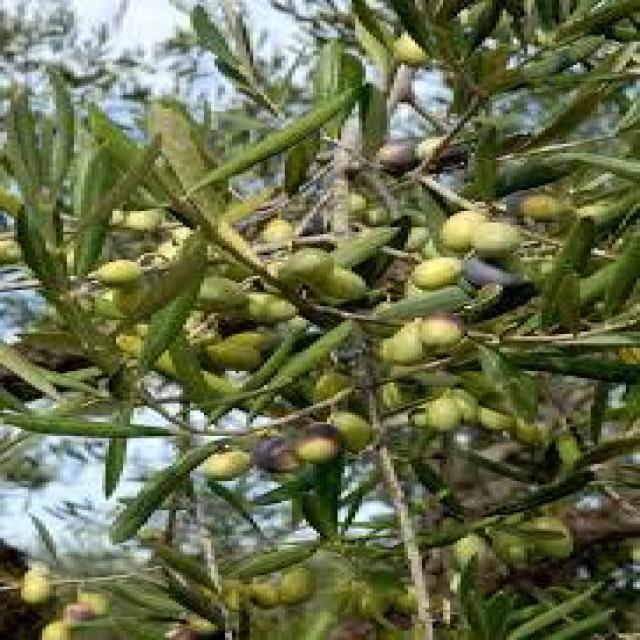Healthy: (327, 410, 369, 450), (440, 211, 482, 250), (408, 257, 457, 288), (197, 450, 250, 478), (471, 223, 517, 255), (418, 315, 461, 346), (278, 566, 309, 603), (88, 260, 137, 283)
